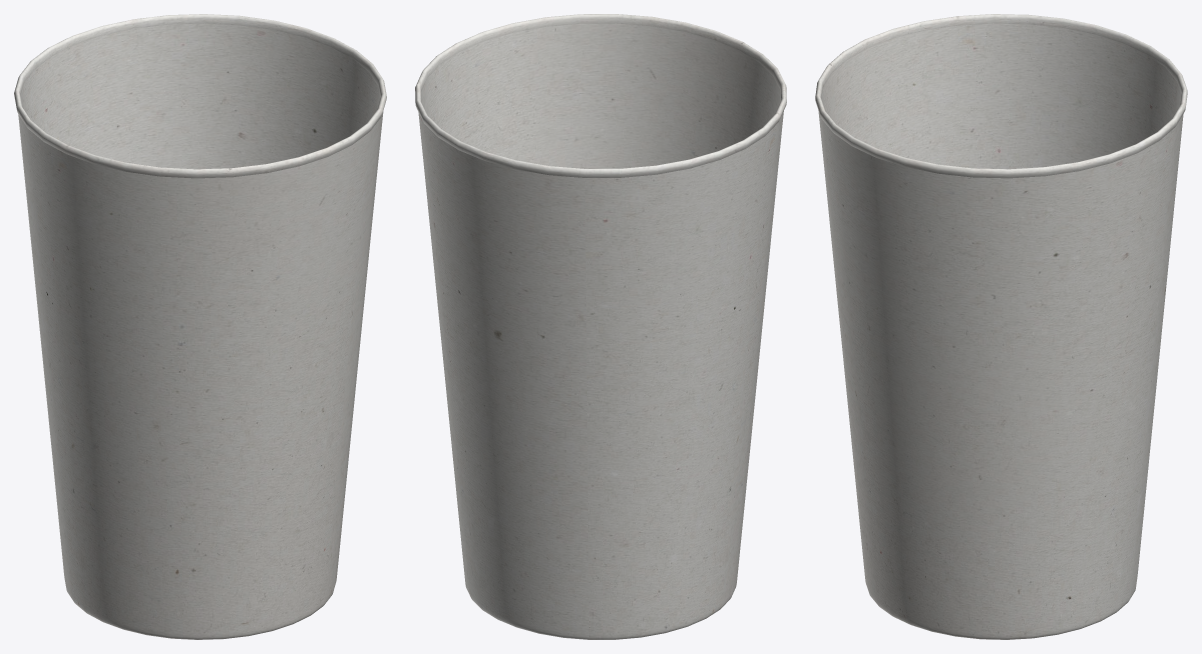
File: cup2.gltf
The picture shows the model from 3 angles, left to right: view 1: azimuth 30°, elevation 25°; view 2: azimuth 150°, elevation 25°; view 3: azimuth 270°, elevation 25°; orthographic projection.
Parts seen in each view (by area): view 1: Cup 400; view 2: Cup 400; view 3: Cup 400.
Boxes of the visible parts, x1=… form: Cup 400: x1=14, y1=14, x2=386, y2=639; Cup 400: x1=415, y1=14, x2=786, y2=639; Cup 400: x1=815, y1=14, x2=1187, y2=639.
Size of the model in its own units: 9.17 by 13.36 by 9.17.
1 material, 1 textured.
